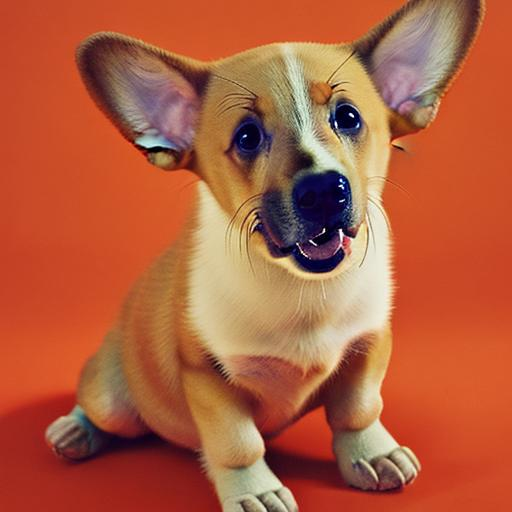eye: (232, 116, 277, 157), (326, 100, 364, 136)
